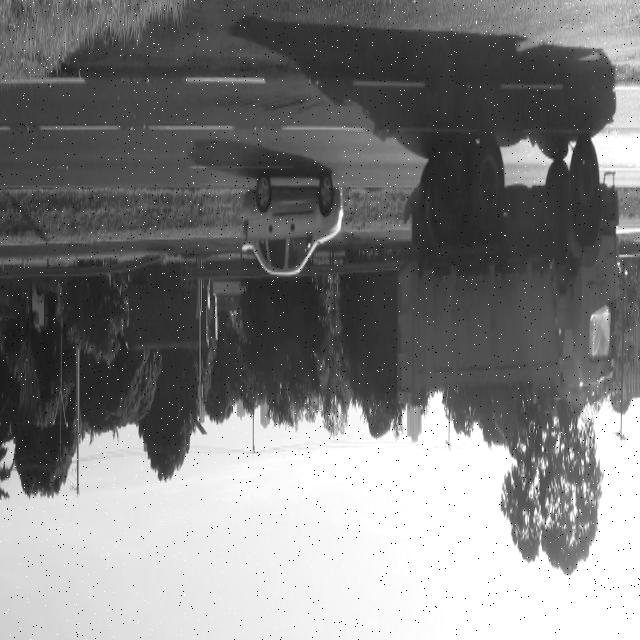-axle: (433, 138, 466, 230), (473, 140, 506, 231), (572, 132, 601, 232)
